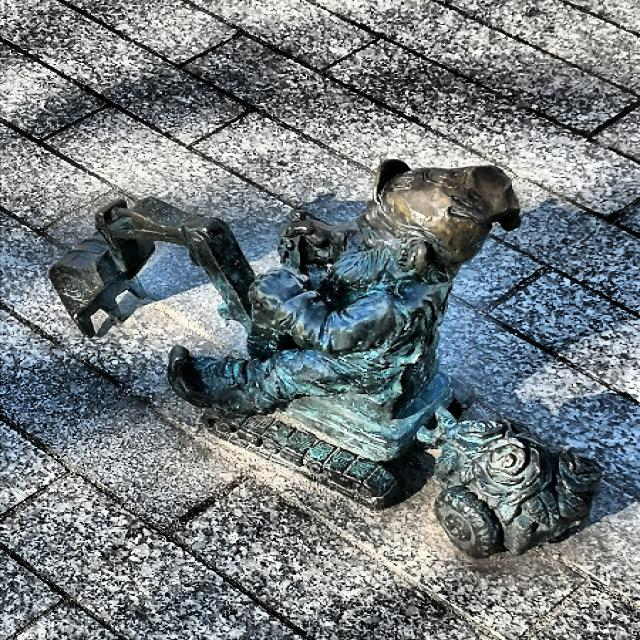Koparkus: (51, 161, 601, 557)
